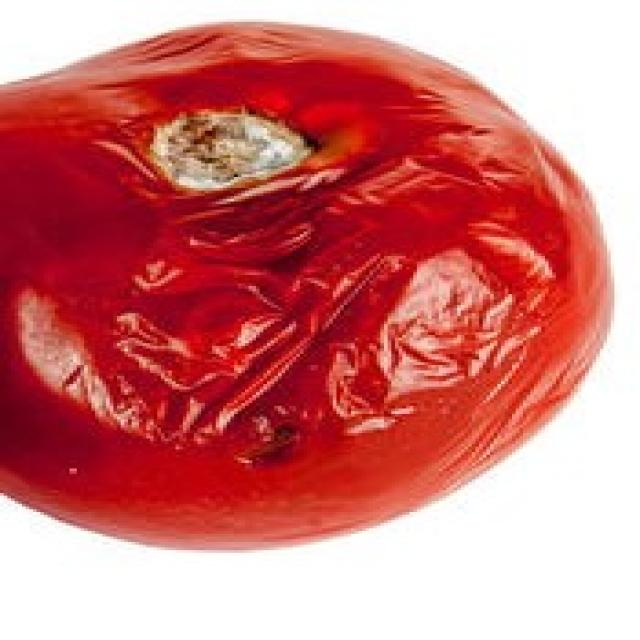overripe: (0, 16, 619, 553)
